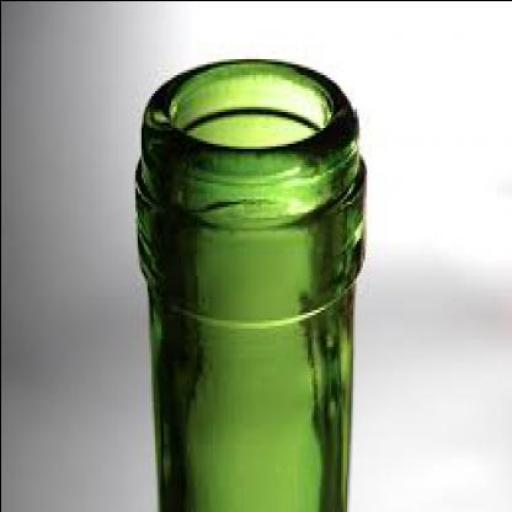glass: (136, 56, 366, 510)
